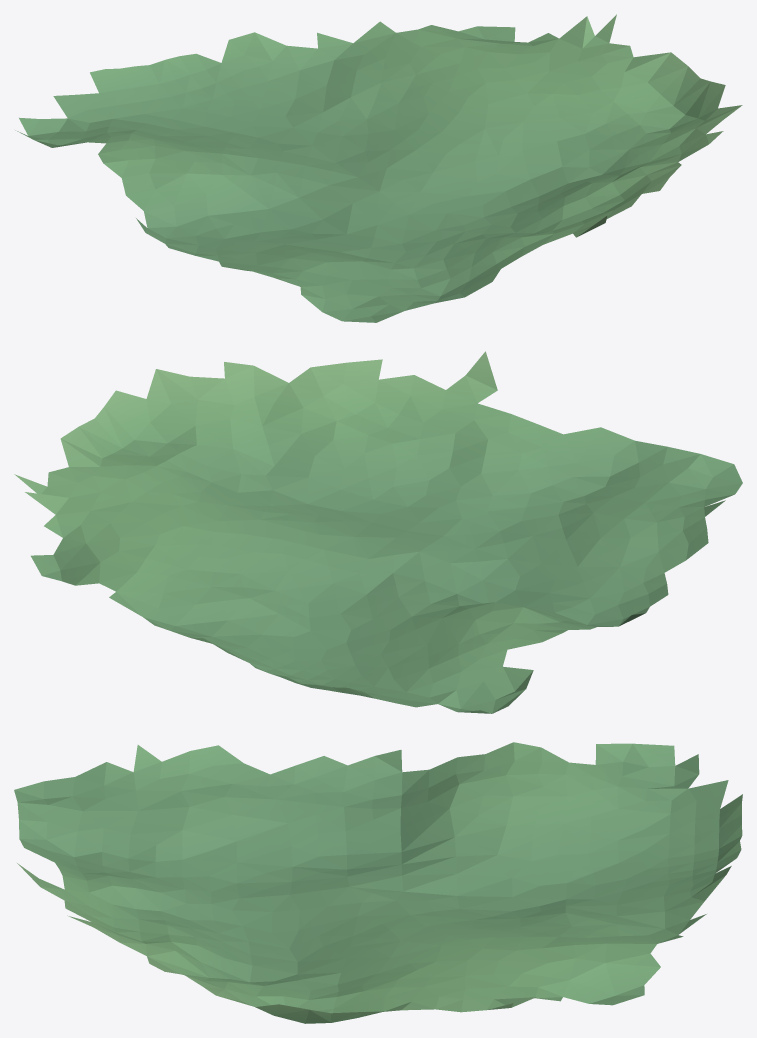
File: WorldMap_Ground.obj
The picture shows the model from 3 angles, top to bottom: view 1: azimuth 30°, elevation 25°; view 2: azimuth 150°, elevation 25°; view 3: azimuth 270°, elevation 25°; orthographic projection. The views are drawn at different scales.
Parts seen in each view (by area): view 1: Plane.001_Plane.002; view 2: Plane.001_Plane.002; view 3: Plane.001_Plane.002.
Part boxes in pixels (x1=…): Plane.001_Plane.002: x1=15, y1=14, x2=742, y2=322; Plane.001_Plane.002: x1=14, y1=351, x2=742, y2=713; Plane.001_Plane.002: x1=14, y1=742, x2=742, y2=1023.
Bounding box in the file's own units: 42.81 × 5.85 × 43.54.
